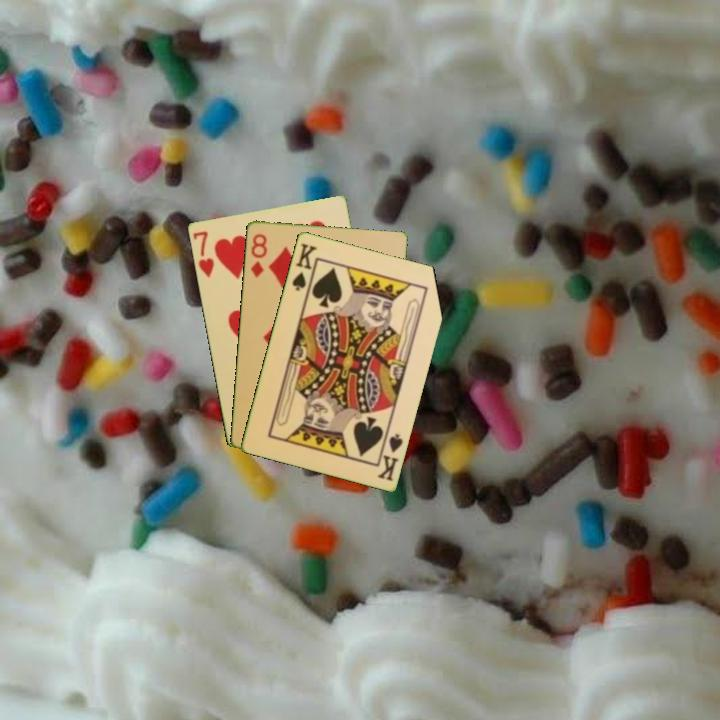7h: (189, 227, 217, 281)
8d: (247, 230, 269, 280)
Ks: (374, 426, 405, 484), (288, 239, 320, 293)
